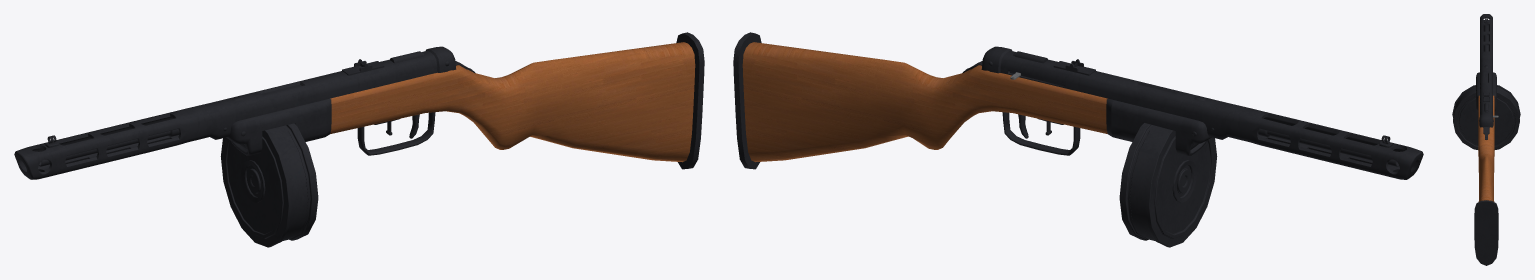
The model's file is ppsh41.glb.
3 views of the same model, side by side, from view 1: azimuth 30°, elevation 25°; view 2: azimuth 150°, elevation 25°; view 3: azimuth 270°, elevation 25° (orthographic). The views are drawn at different scales.
Visible parts, largest first — view 1: ppsh41; view 2: ppsh41; view 3: ppsh41.
Boxes of the visible parts, x1=… form: ppsh41: x1=14, y1=32, x2=704, y2=247; ppsh41: x1=733, y1=32, x2=1423, y2=247; ppsh41: x1=1452, y1=14, x2=1520, y2=265.
Size of the model in its own units: 0.843 by 0.2235 by 0.1476.
Materials: 3 (3 with a texture image).
